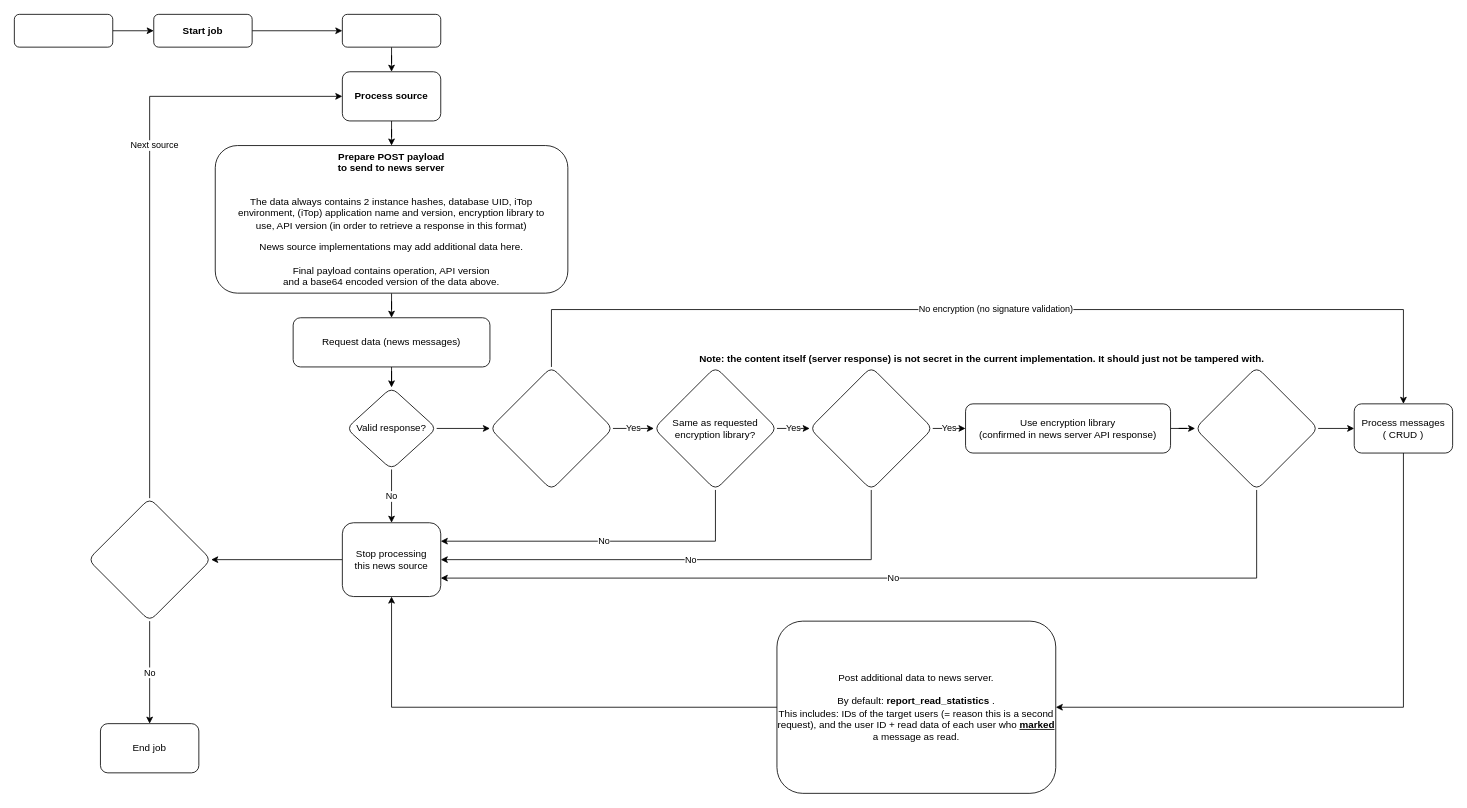
Image size: 1467x808. Some labels were removed from this diagram. Each missing label, with the box of its shape:
Contains signature?: (809, 366, 933, 490)
Encryption?: (489, 366, 613, 490)
iTop Background task: (14, 14, 113, 47)
List news sources (servers): (342, 14, 441, 47)
More sources?: (87, 497, 211, 621)
Valid signature?: (1194, 366, 1318, 490)
